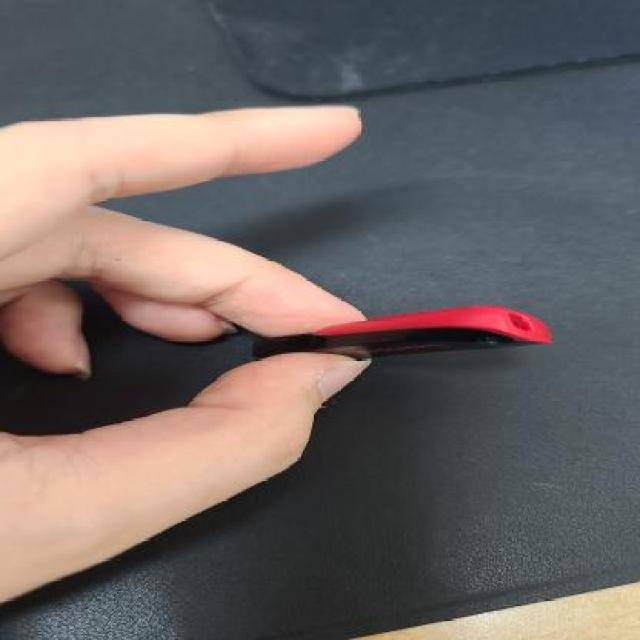Flashdisk: (250, 302, 555, 356)
